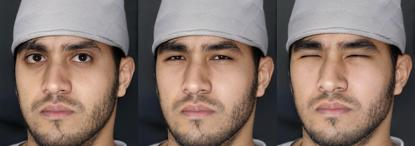no_mask: (285, 17, 399, 140), (7, 21, 123, 140), (152, 18, 263, 141)
